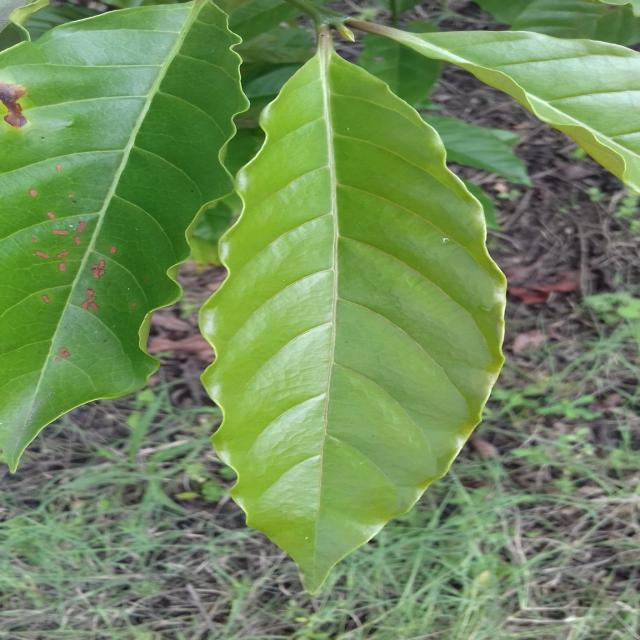Sanas: (186, 31, 496, 594)
